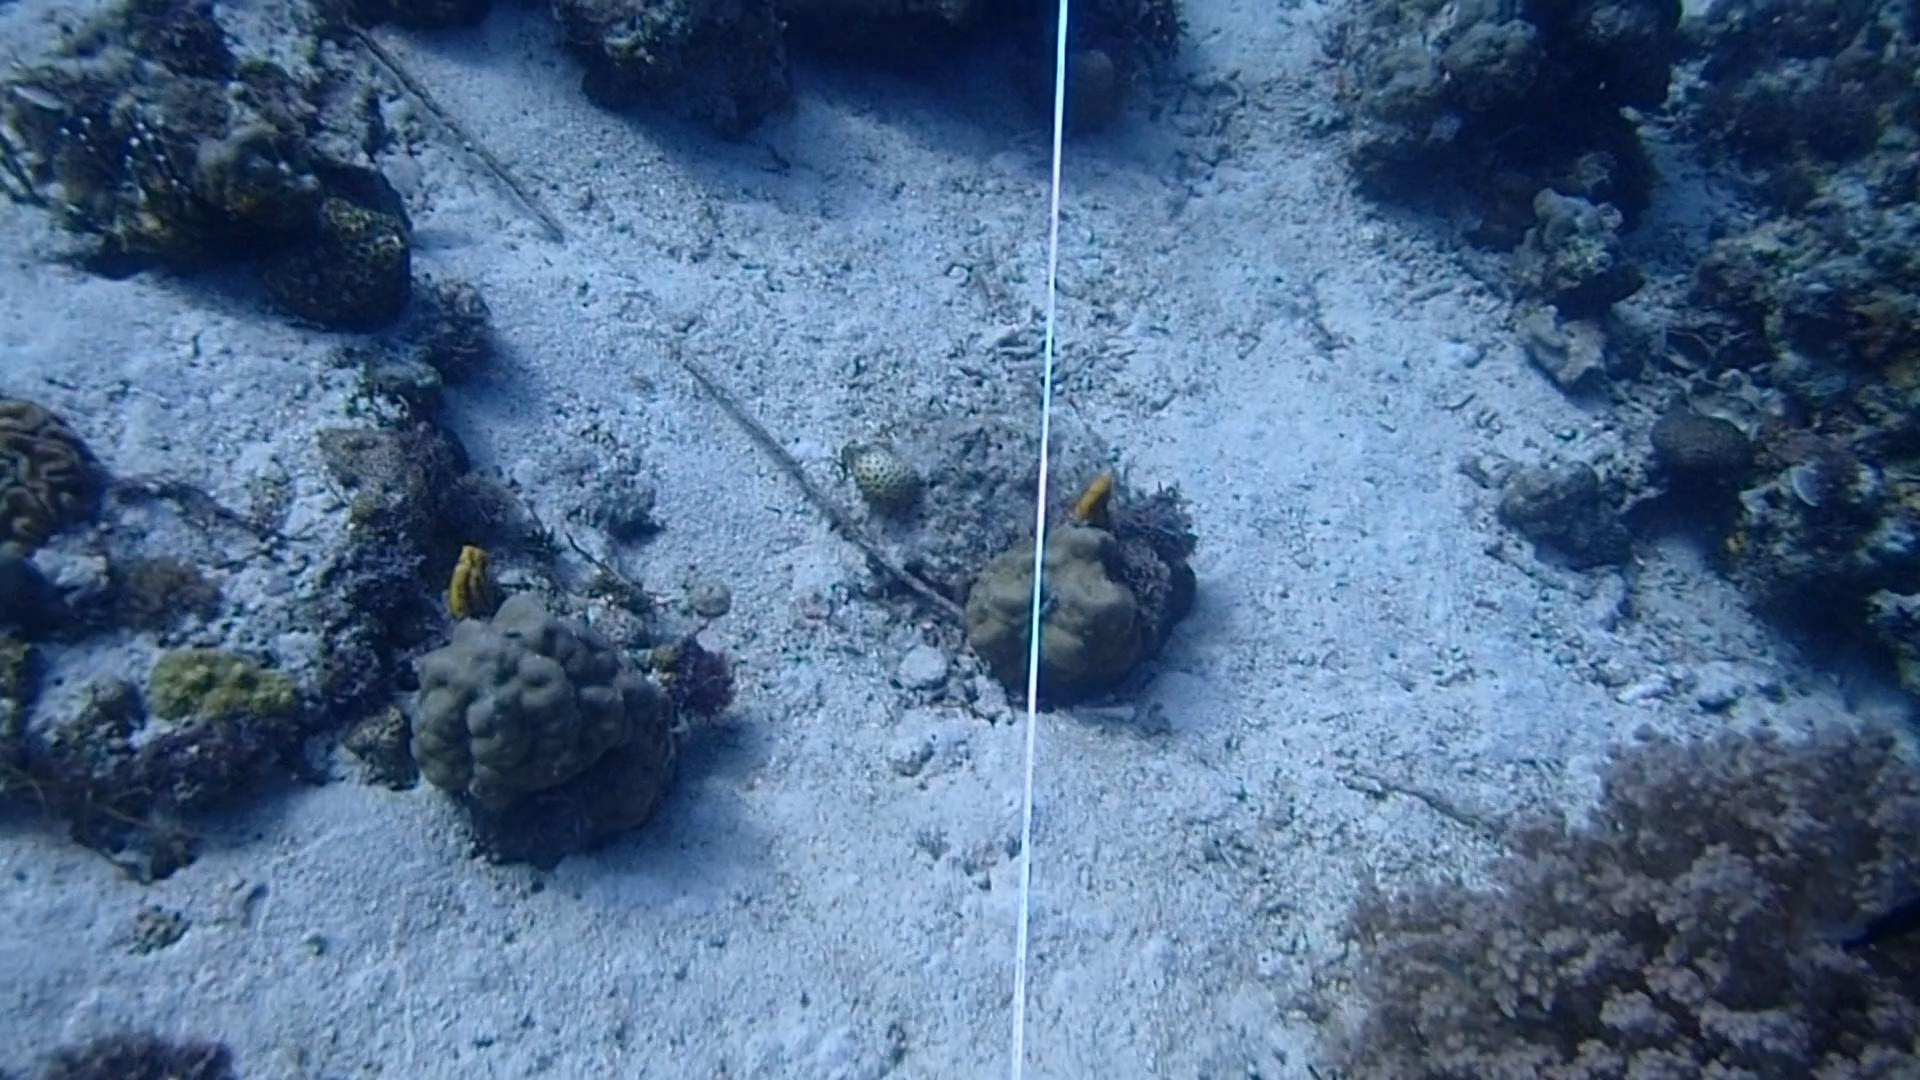Dark Fish: (1840, 893, 1920, 965)
